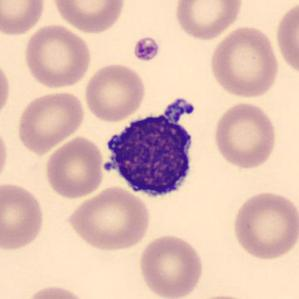Lymphocyte: (97, 91, 200, 206)
Platelets: (131, 36, 161, 62)
RBC: (64, 184, 154, 252), (206, 24, 282, 99), (230, 189, 298, 261), (211, 100, 279, 170), (22, 23, 92, 90), (15, 88, 86, 154), (137, 232, 205, 299), (44, 134, 106, 200), (82, 62, 147, 123), (0, 180, 47, 253), (172, 0, 245, 41), (50, 0, 127, 35), (274, 0, 298, 79), (0, 0, 47, 37), (21, 283, 90, 299), (0, 55, 13, 123), (0, 121, 11, 188)
